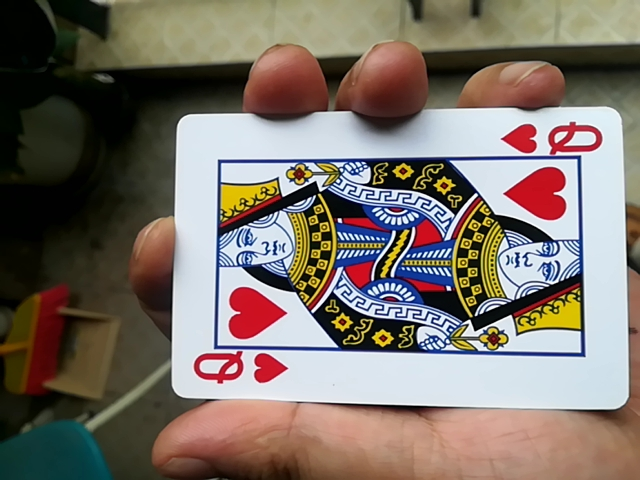hx q: (145, 104, 628, 415)
